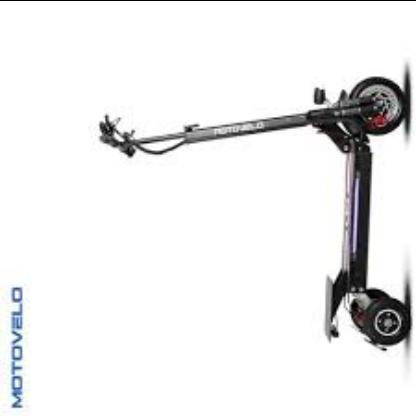bike: (97, 74, 414, 352)
